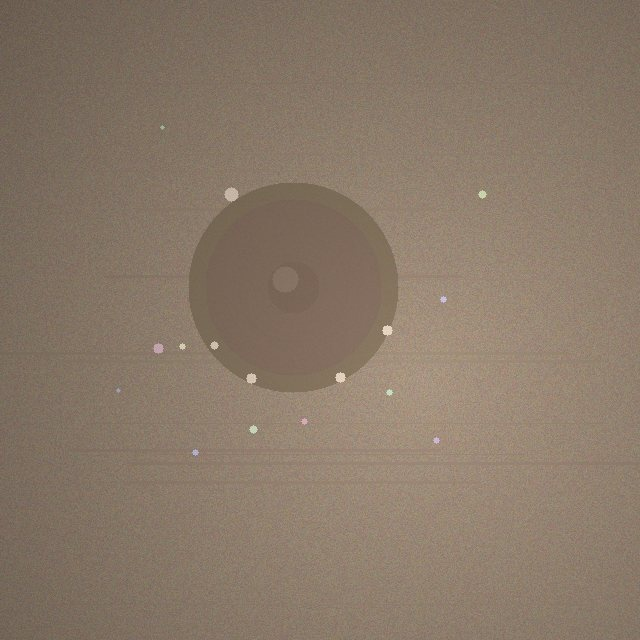overburn: (188, 182, 398, 392)
